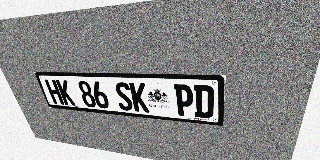6: (90, 81, 110, 109)
8: (77, 81, 97, 108)
D: (194, 85, 214, 119)
H: (44, 79, 64, 105)
K: (129, 82, 149, 113), (55, 80, 76, 106)
P: (174, 84, 194, 117)
S: (113, 82, 134, 111)
